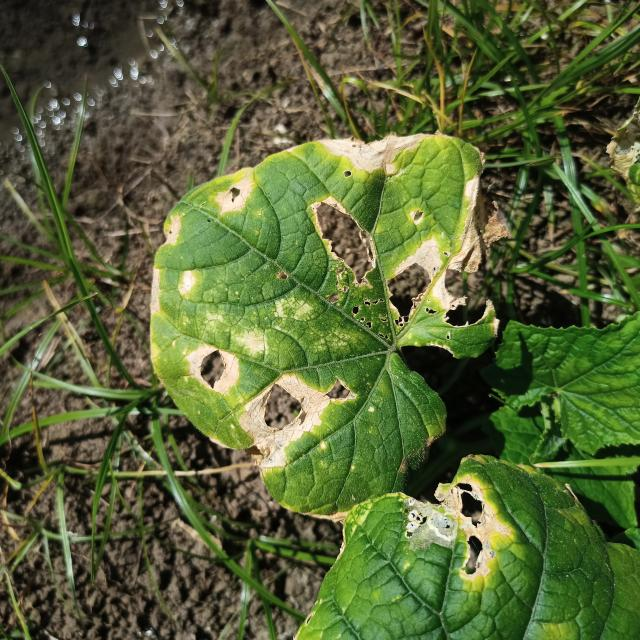disease_cucumber: (149, 130, 492, 473), (430, 467, 512, 582)
